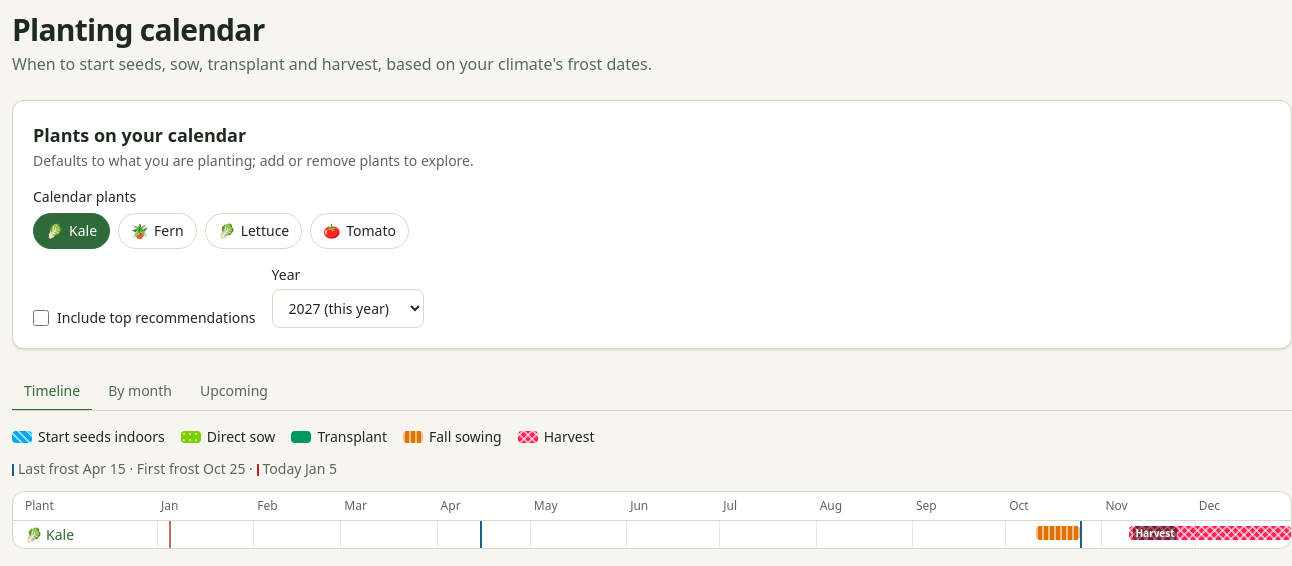
Test: CalendarPage › upcoming tab › includes events that began last year when the window spans New Year
The image size is (1292, 566).
Click the tab "Upcoming" at coordinates (234, 392), box [188,373,280,411]
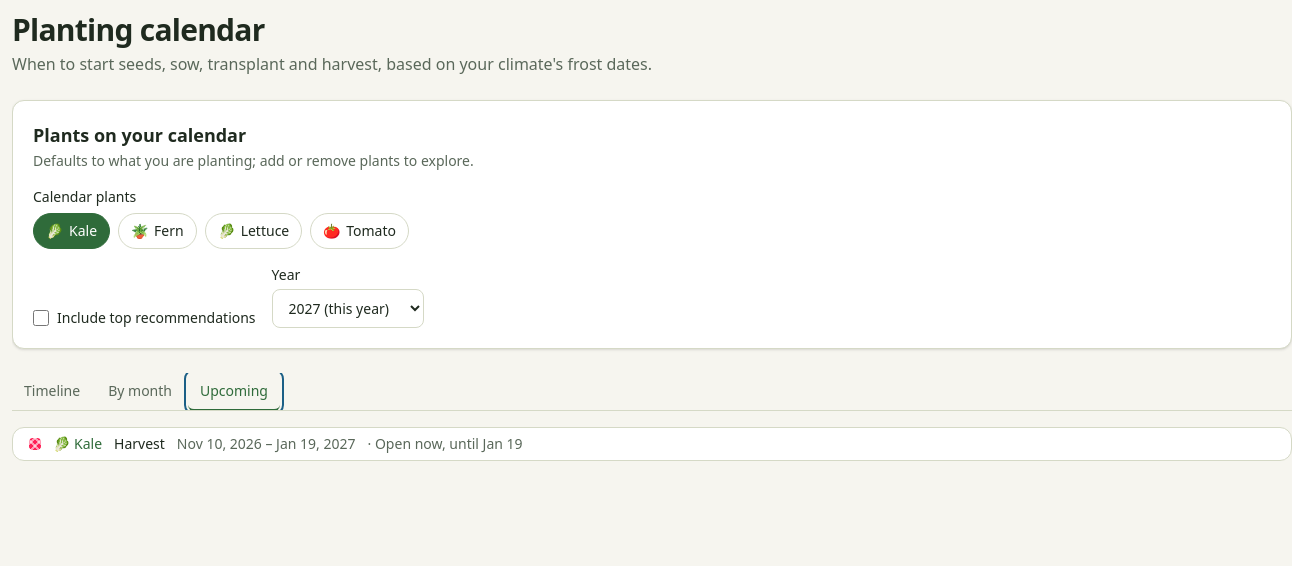
expect the text "Harvest" is shown: met, box [114,434,165,454]
expect the text "· Open now, until Jan 19" is shown: met, box [368,434,522,454]
